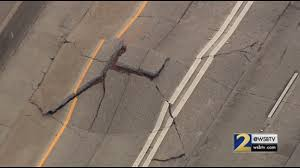roadCrash: (53, 41, 171, 105)
